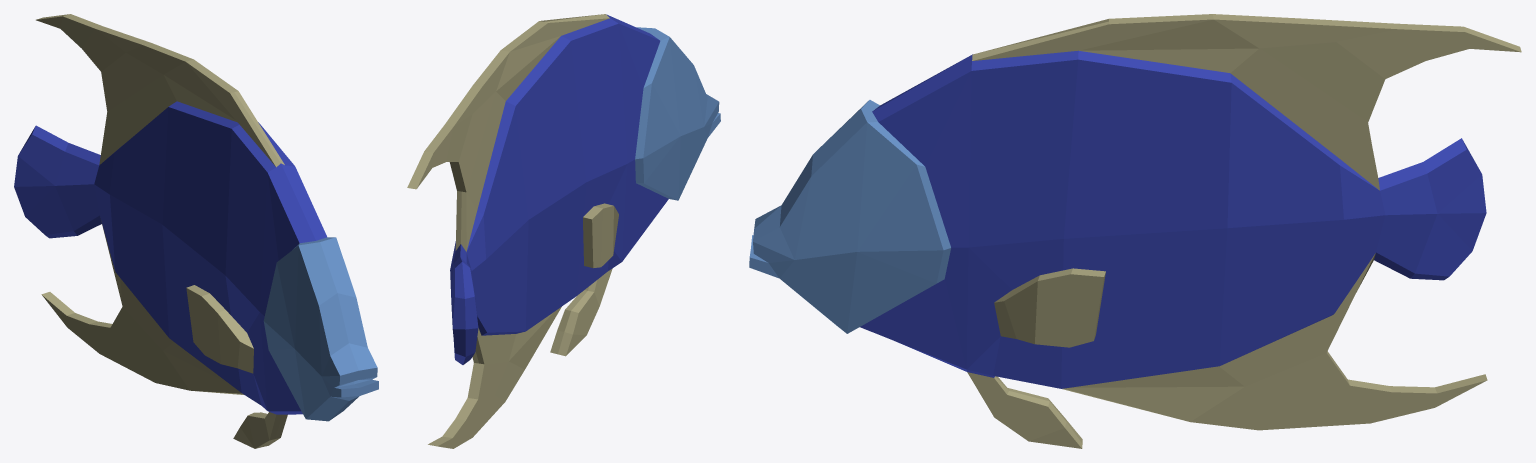
Rendered from fish_trout.glb.
3 renders of one model, left to right at view 1: azimuth 30°, elevation 25°; view 2: azimuth 150°, elevation 25°; view 3: azimuth 270°, elevation 25°, orthographic. The views are drawn at different scales.
Visible parts, largest first — view 1: Fish2; view 2: Fish2; view 3: Fish2.
Boxes of the visible parts, x1,y1,x2,y2 form: Fish2: (14, 14, 378, 448); Fish2: (407, 14, 720, 448); Fish2: (749, 14, 1521, 448).
Size of the model in its own units: 0.4371 by 1.22 by 1.99.
